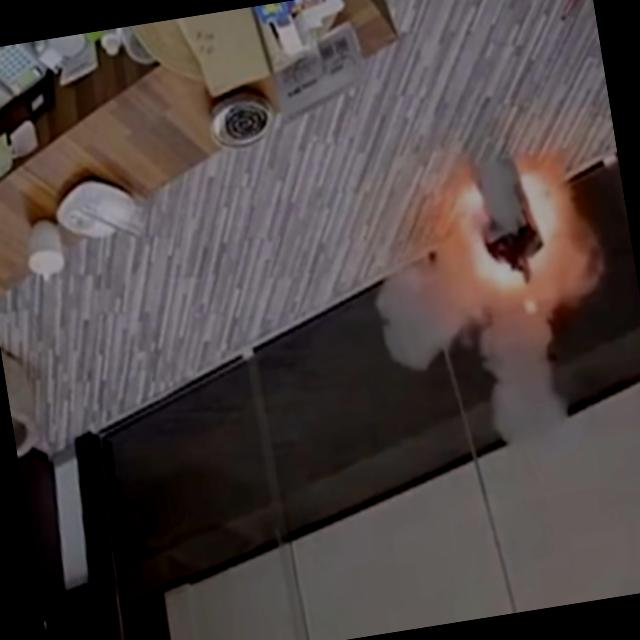fire: (455, 158, 577, 299)
smoke: (446, 294, 606, 456)
